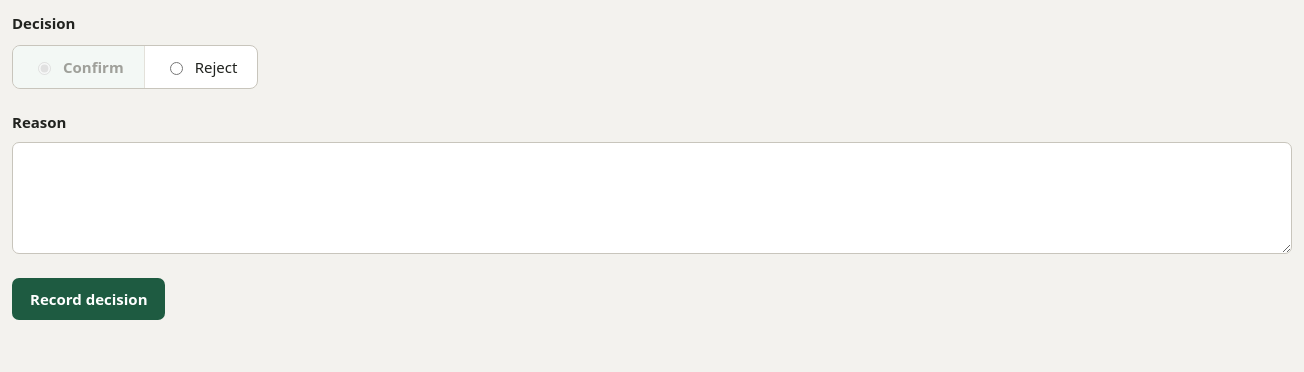
it: DecisionForm confirm-disabled submit guard › never submits CONFIRMED while Confirm is disabled but still selected
Step 1. Type "Trying to self-confirm" into the text box labelled "Reason" → (652, 198), box [12,142,1292,254]
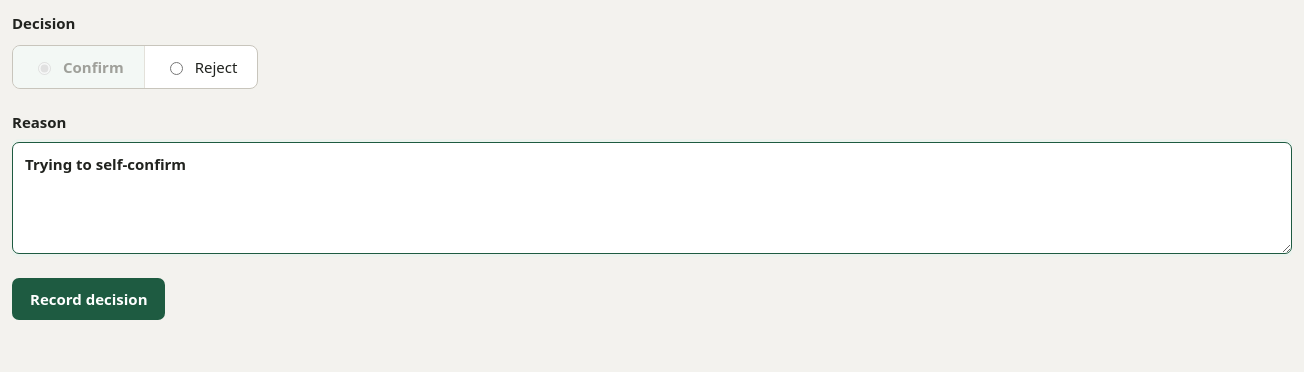
Step 2. Click the button "Record decision" → (89, 299), box [12,278,166,320]
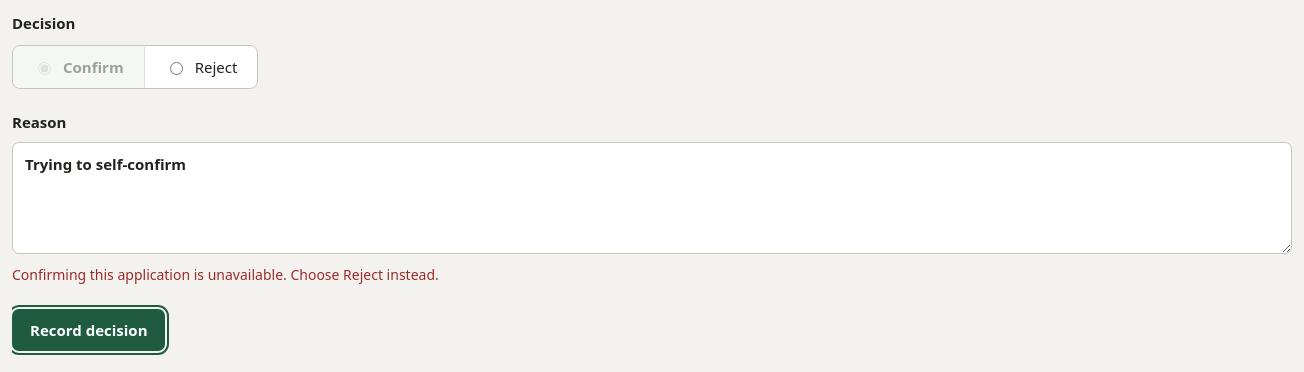
expect the message shows "unavailable": met, box [12,264,439,284]
